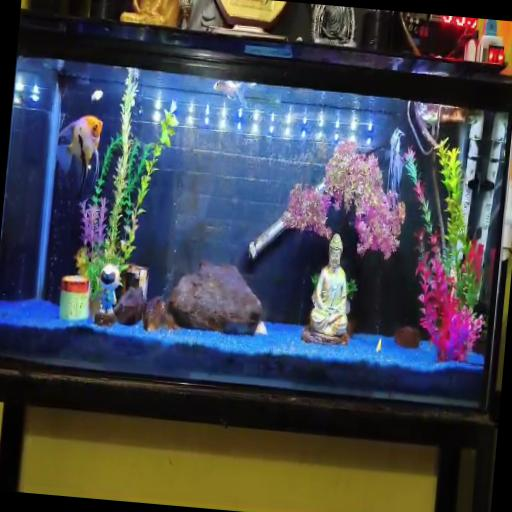Fish: (57, 116, 102, 196), (387, 128, 404, 201), (213, 80, 256, 106), (91, 89, 103, 101), (376, 339, 381, 352)
